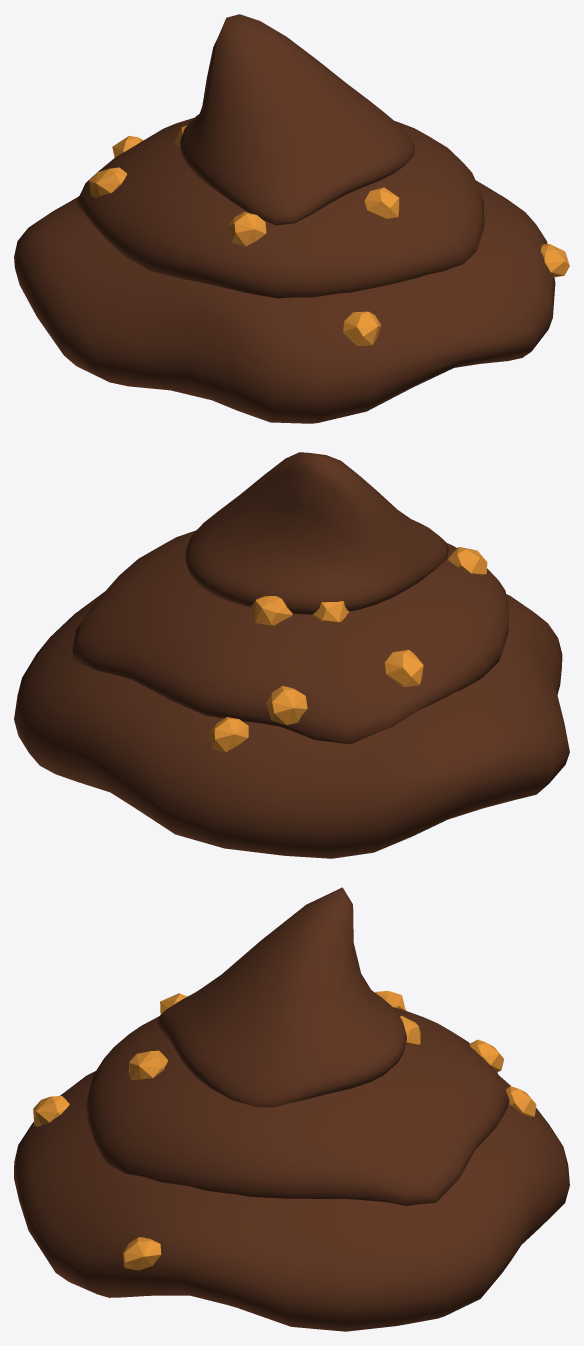
Rendered from Crotte.fbx.
3 views of the same model, one above another, from view 1: azimuth 30°, elevation 25°; view 2: azimuth 150°, elevation 25°; view 3: azimuth 270°, elevation 25° (orthographic). The views are drawn at different scales.
Visible parts, largest first — view 1: Cube.002; view 2: Cube.002; view 3: Cube.002.
Part boxes in pixels (x1=…): Cube.002: x1=14, y1=14, x2=569, y2=423; Cube.002: x1=14, y1=452, x2=569, y2=858; Cube.002: x1=14, y1=887, x2=569, y2=1331.
Bounding box in the file's own units: 209 × 132 × 203.
